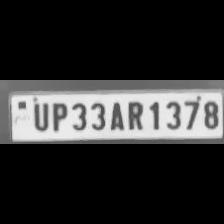1: (146, 99, 162, 130)
3: (68, 99, 88, 131), (162, 98, 180, 130), (88, 99, 106, 130)
7: (181, 97, 199, 130)
8: (200, 98, 220, 130)
A: (106, 99, 124, 130)
P: (48, 100, 68, 132)
R: (125, 98, 144, 130)
U: (29, 99, 49, 131)
